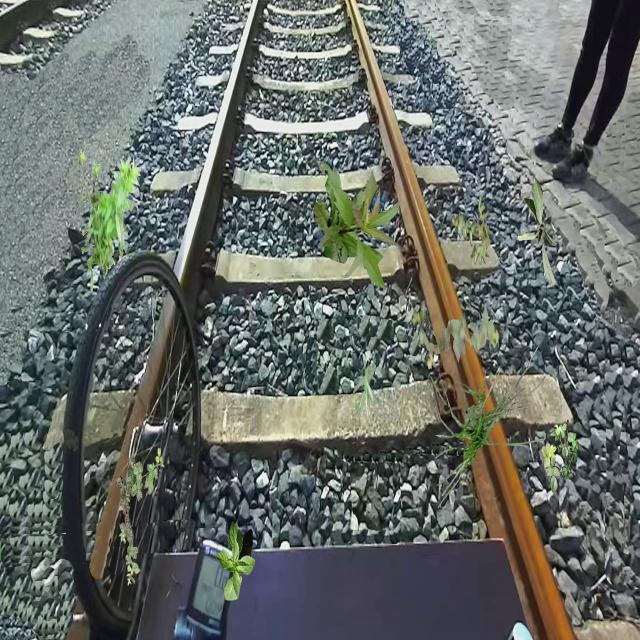Plant: (427, 345, 546, 508), (314, 160, 402, 290), (77, 149, 142, 292), (116, 448, 164, 586), (413, 301, 500, 369), (517, 178, 557, 288), (214, 521, 256, 601), (451, 194, 492, 266), (542, 420, 580, 493), (352, 366, 378, 422)
